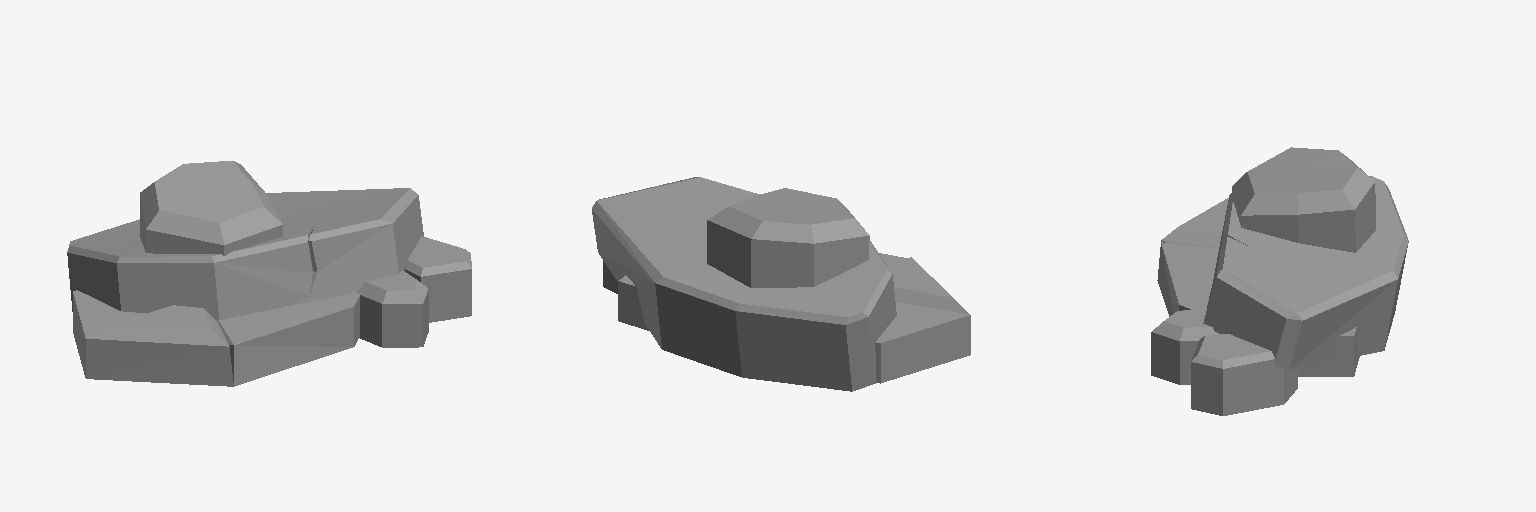
The model's file is rock4.obj.
3 renders of one model, left to right at view 1: azimuth 30°, elevation 25°; view 2: azimuth 150°, elevation 25°; view 3: azimuth 270°, elevation 25°, orthographic.
Parts seen in each view (by area): view 1: Rock_Type1_01_mesh_Circle; view 2: Rock_Type1_01_mesh_Circle; view 3: Rock_Type1_01_mesh_Circle.
Part boxes in pixels (x1,y1,x2,y2): Rock_Type1_01_mesh_Circle: (67, 161, 471, 386); Rock_Type1_01_mesh_Circle: (592, 177, 970, 391); Rock_Type1_01_mesh_Circle: (1151, 147, 1408, 415).
Size of the model in its own units: 2.87 by 1.06 by 1.72.